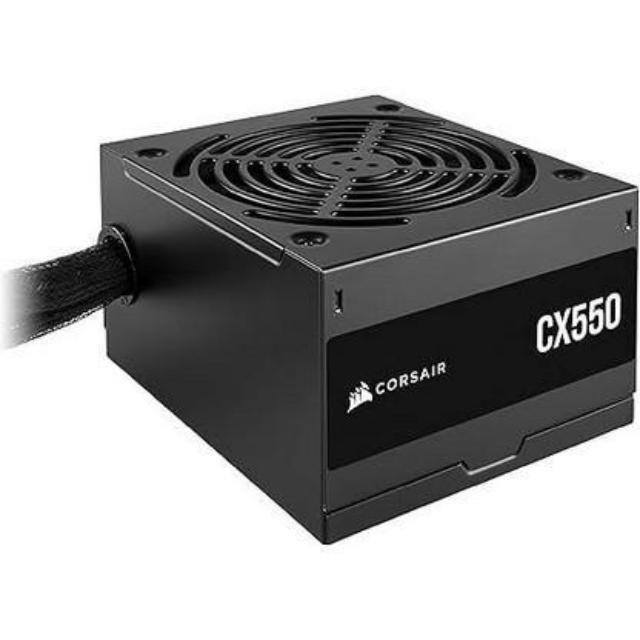PSU: (86, 80, 640, 555)
